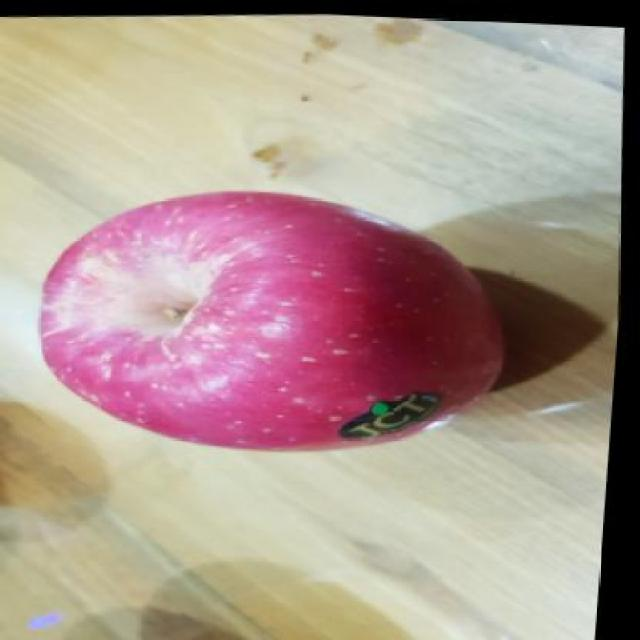Fresh Apple: (34, 188, 504, 462)
